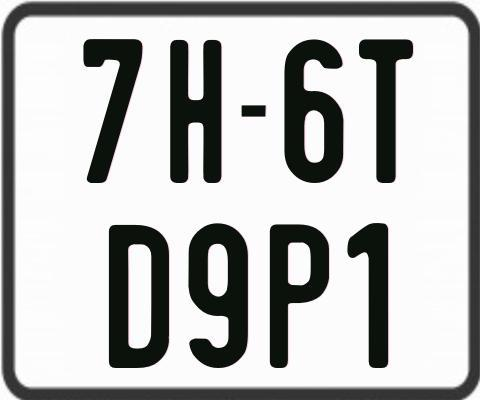1: (344, 222, 388, 372)
6: (282, 39, 344, 186)
7: (80, 39, 145, 183)
9: (188, 223, 250, 373)
D: (109, 223, 173, 366)
H: (167, 37, 219, 183)
P: (267, 221, 332, 367)
T: (359, 38, 416, 187)
